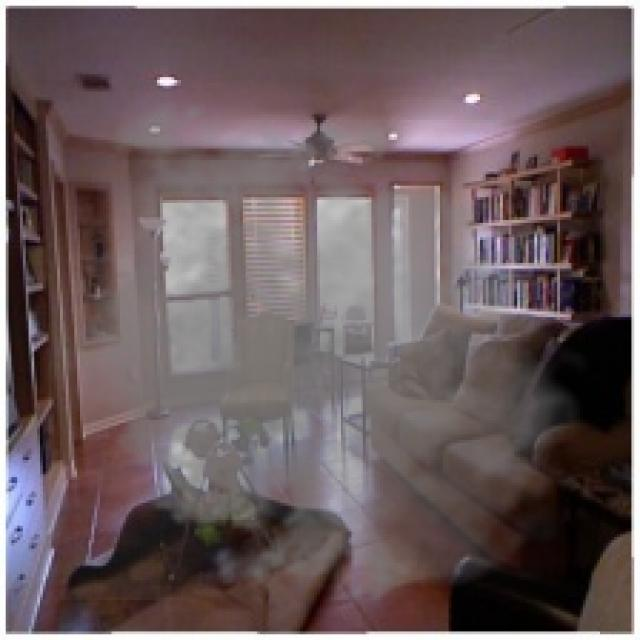smoke: (48, 86, 603, 611)
